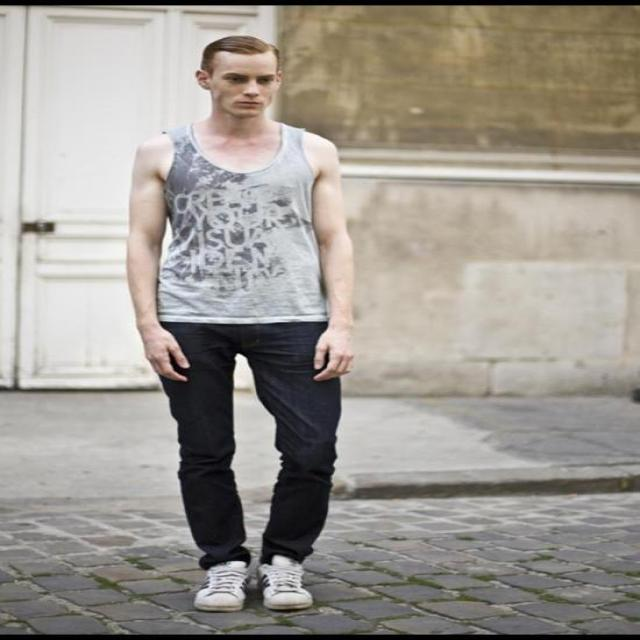Tshirt: (155, 122, 329, 324)
pants: (153, 316, 342, 568)
